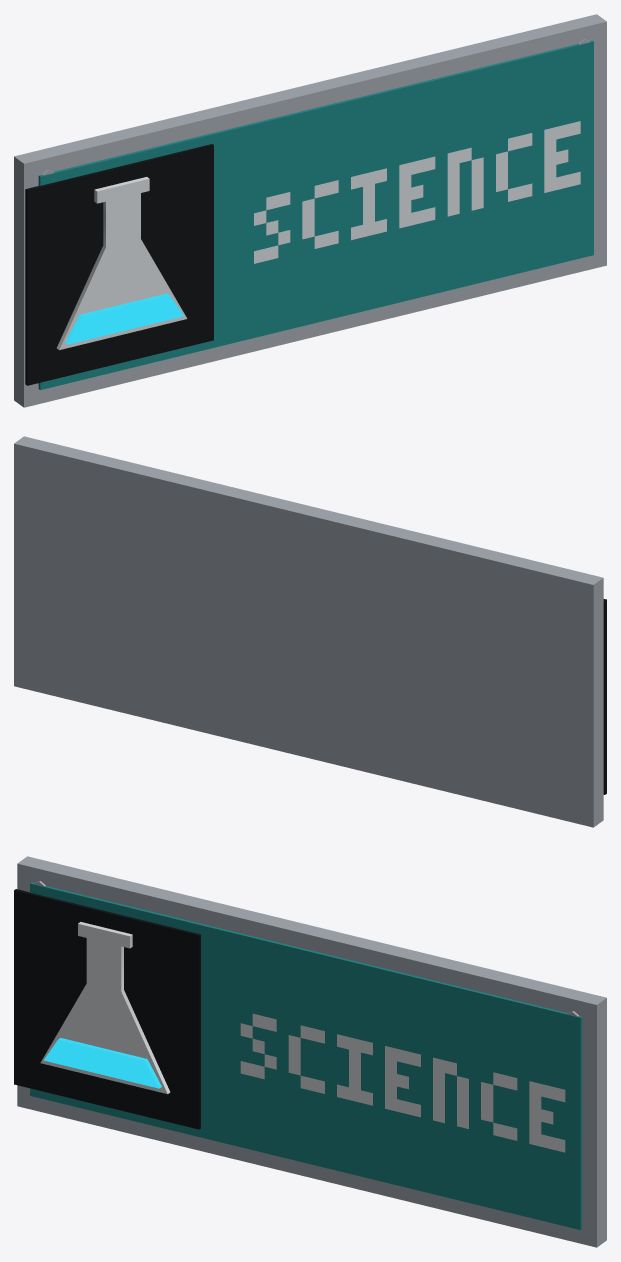
Rendered from sign_dept_science.glb.
3 views of the same model, one above another, from view 1: azimuth 30°, elevation 25°; view 2: azimuth 150°, elevation 25°; view 3: azimuth 330°, elevation 25° (orthographic).
Parts seen in each view (by area): view 1: sign_dept_science; view 2: sign_dept_science; view 3: sign_dept_science.
Part boxes in pixels (x1=…): sign_dept_science: x1=14, y1=14, x2=606, y2=407; sign_dept_science: x1=14, y1=436, x2=606, y2=827; sign_dept_science: x1=14, y1=856, x2=606, y2=1247.
Size of the model in its own units: 1 by 0.4 by 0.056.
